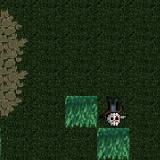Jason: (98, 95, 128, 128)
Slow: (96, 127, 129, 160), (64, 96, 98, 128)
